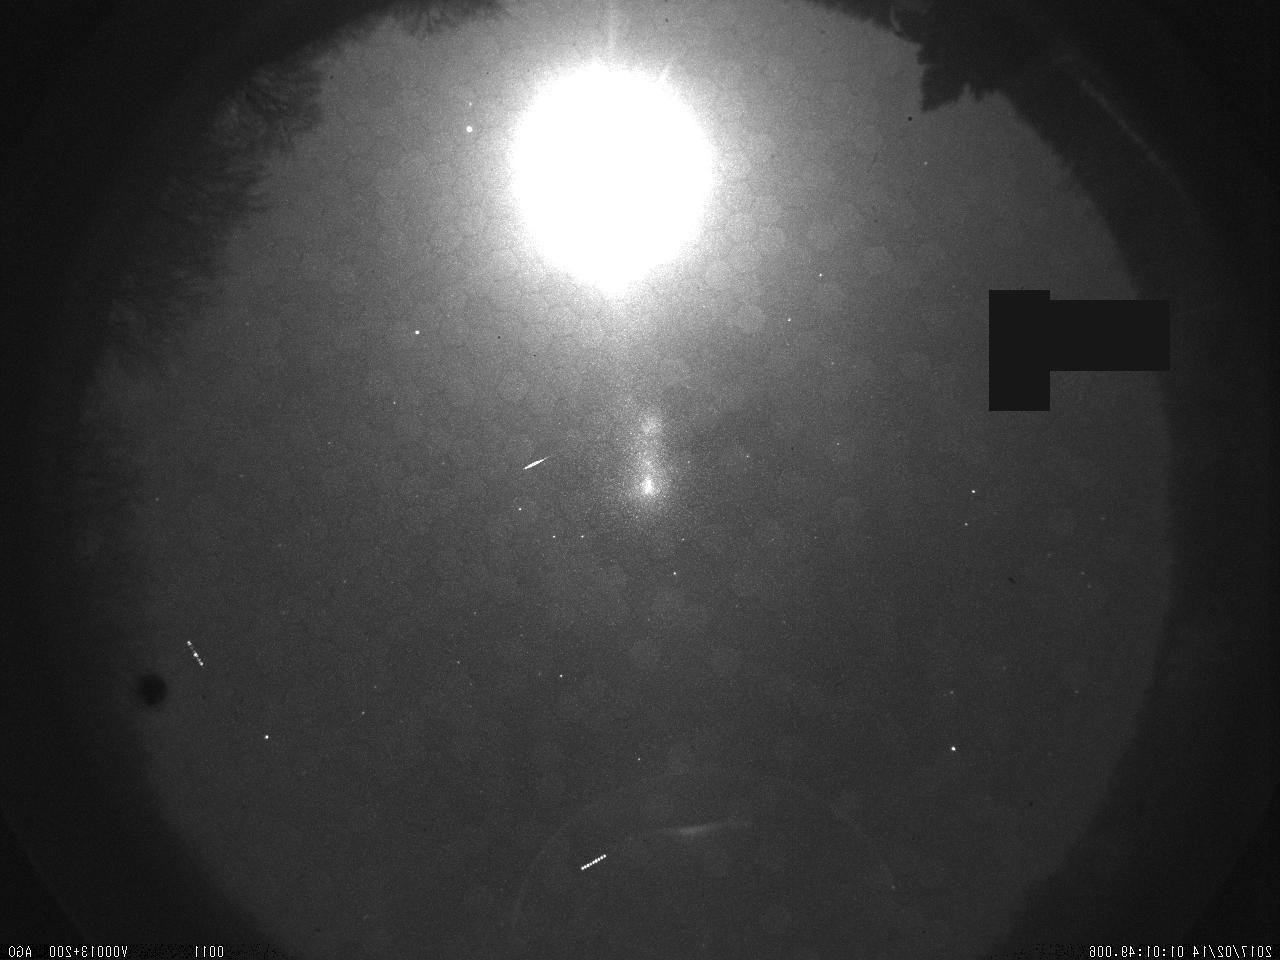meteor: (513, 452, 562, 480)
satelite: (177, 633, 210, 676), (571, 846, 616, 875)
